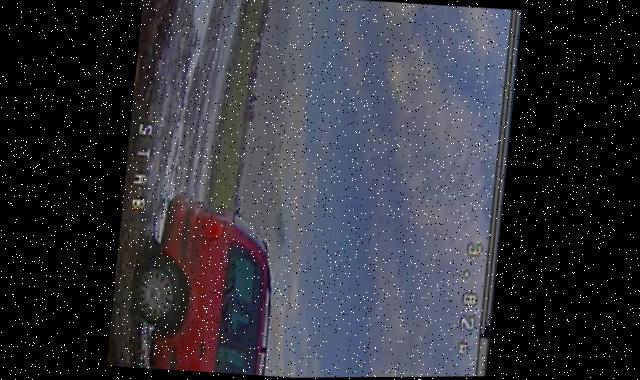car: (129, 190, 286, 377)
